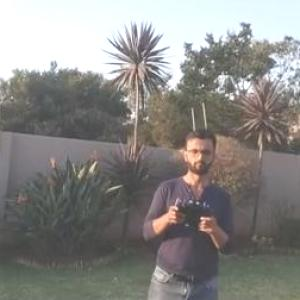follow: (132, 115, 248, 299)
